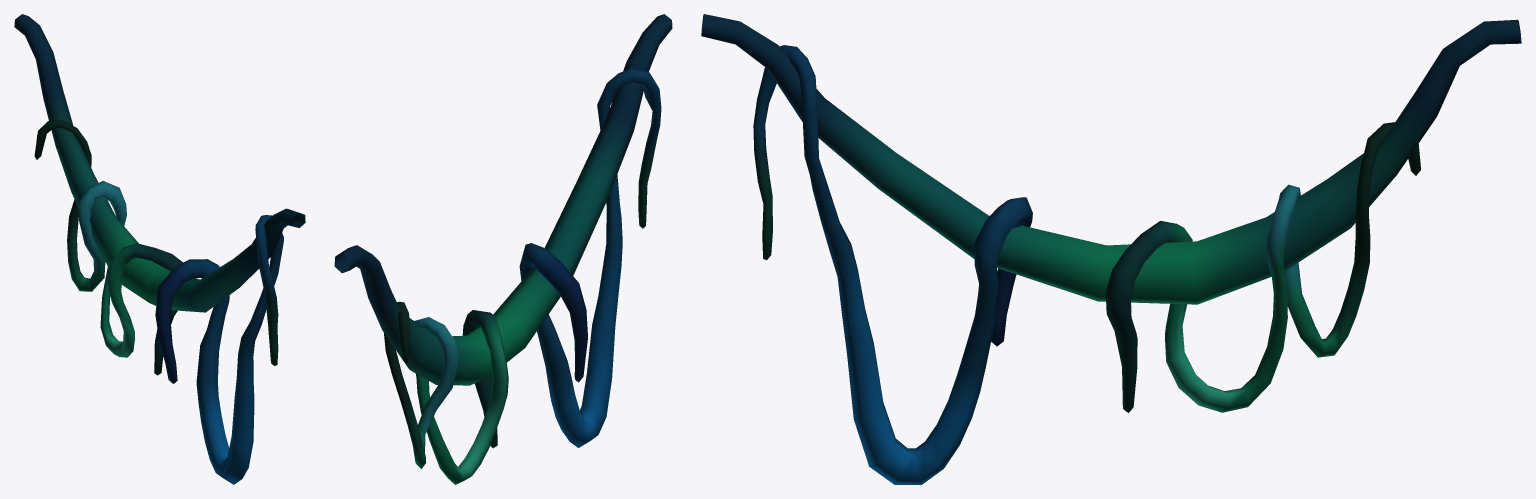
The model's file is Alien_SkyRoot02.fbx.
The picture shows the model from 3 angles, left to right: view 1: azimuth 30°, elevation 25°; view 2: azimuth 150°, elevation 25°; view 3: azimuth 270°, elevation 25°; orthographic projection. The views are drawn at different scales.
Parts seen in each view (by area): view 1: Alien_SkyRoot02; view 2: Alien_SkyRoot02; view 3: Alien_SkyRoot02.
Boxes of the visible parts, x1=… form: Alien_SkyRoot02: x1=14, y1=14, x2=305, y2=484; Alien_SkyRoot02: x1=334, y1=14, x2=672, y2=484; Alien_SkyRoot02: x1=701, y1=14, x2=1521, y2=484.
Bounding box in the file's own units: 1325 × 5980 × 9440.
